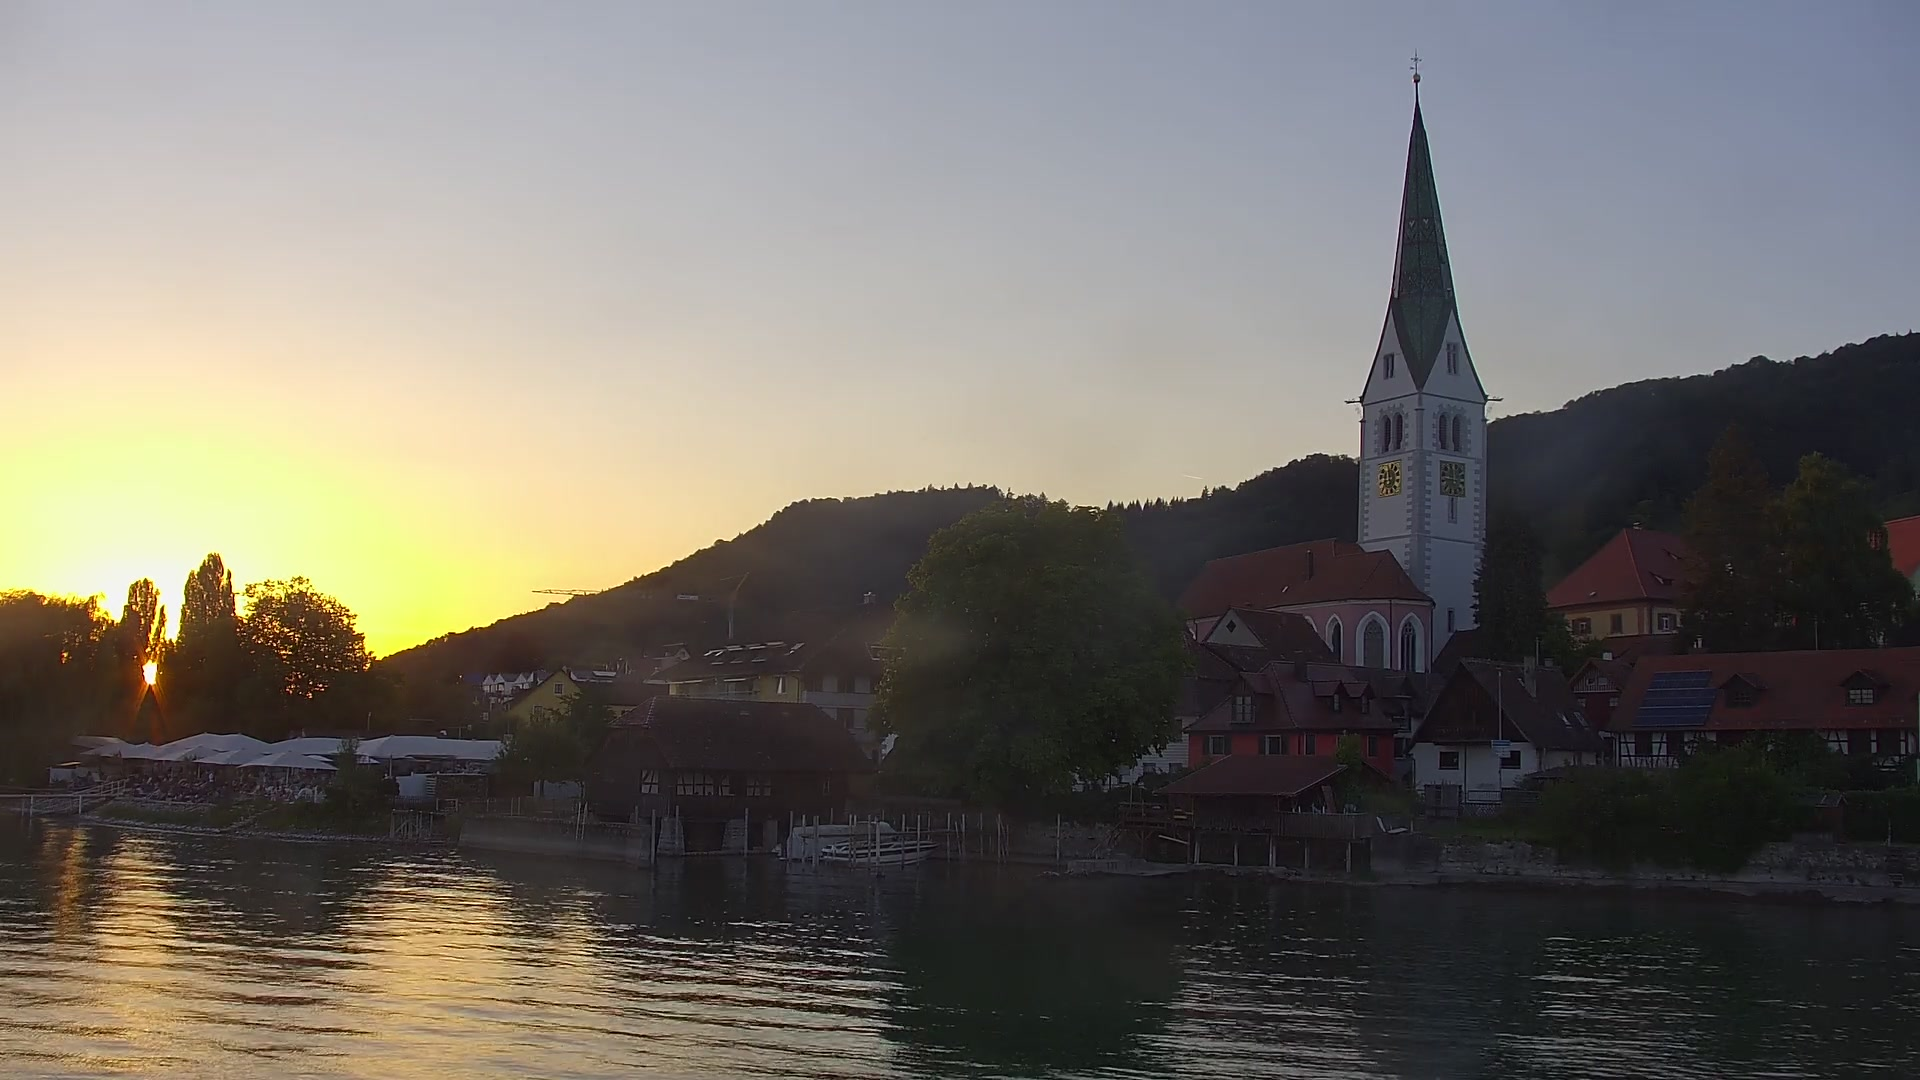sea: (820, 820, 940, 868)
